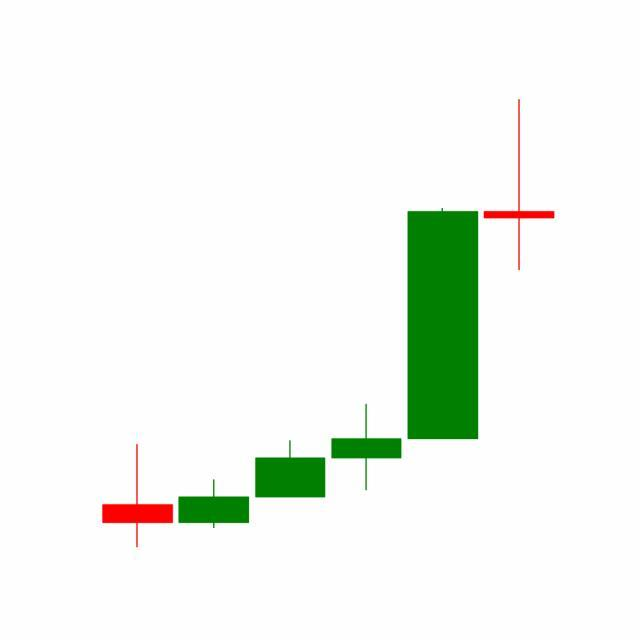Marubozu: (404, 206, 482, 443)
